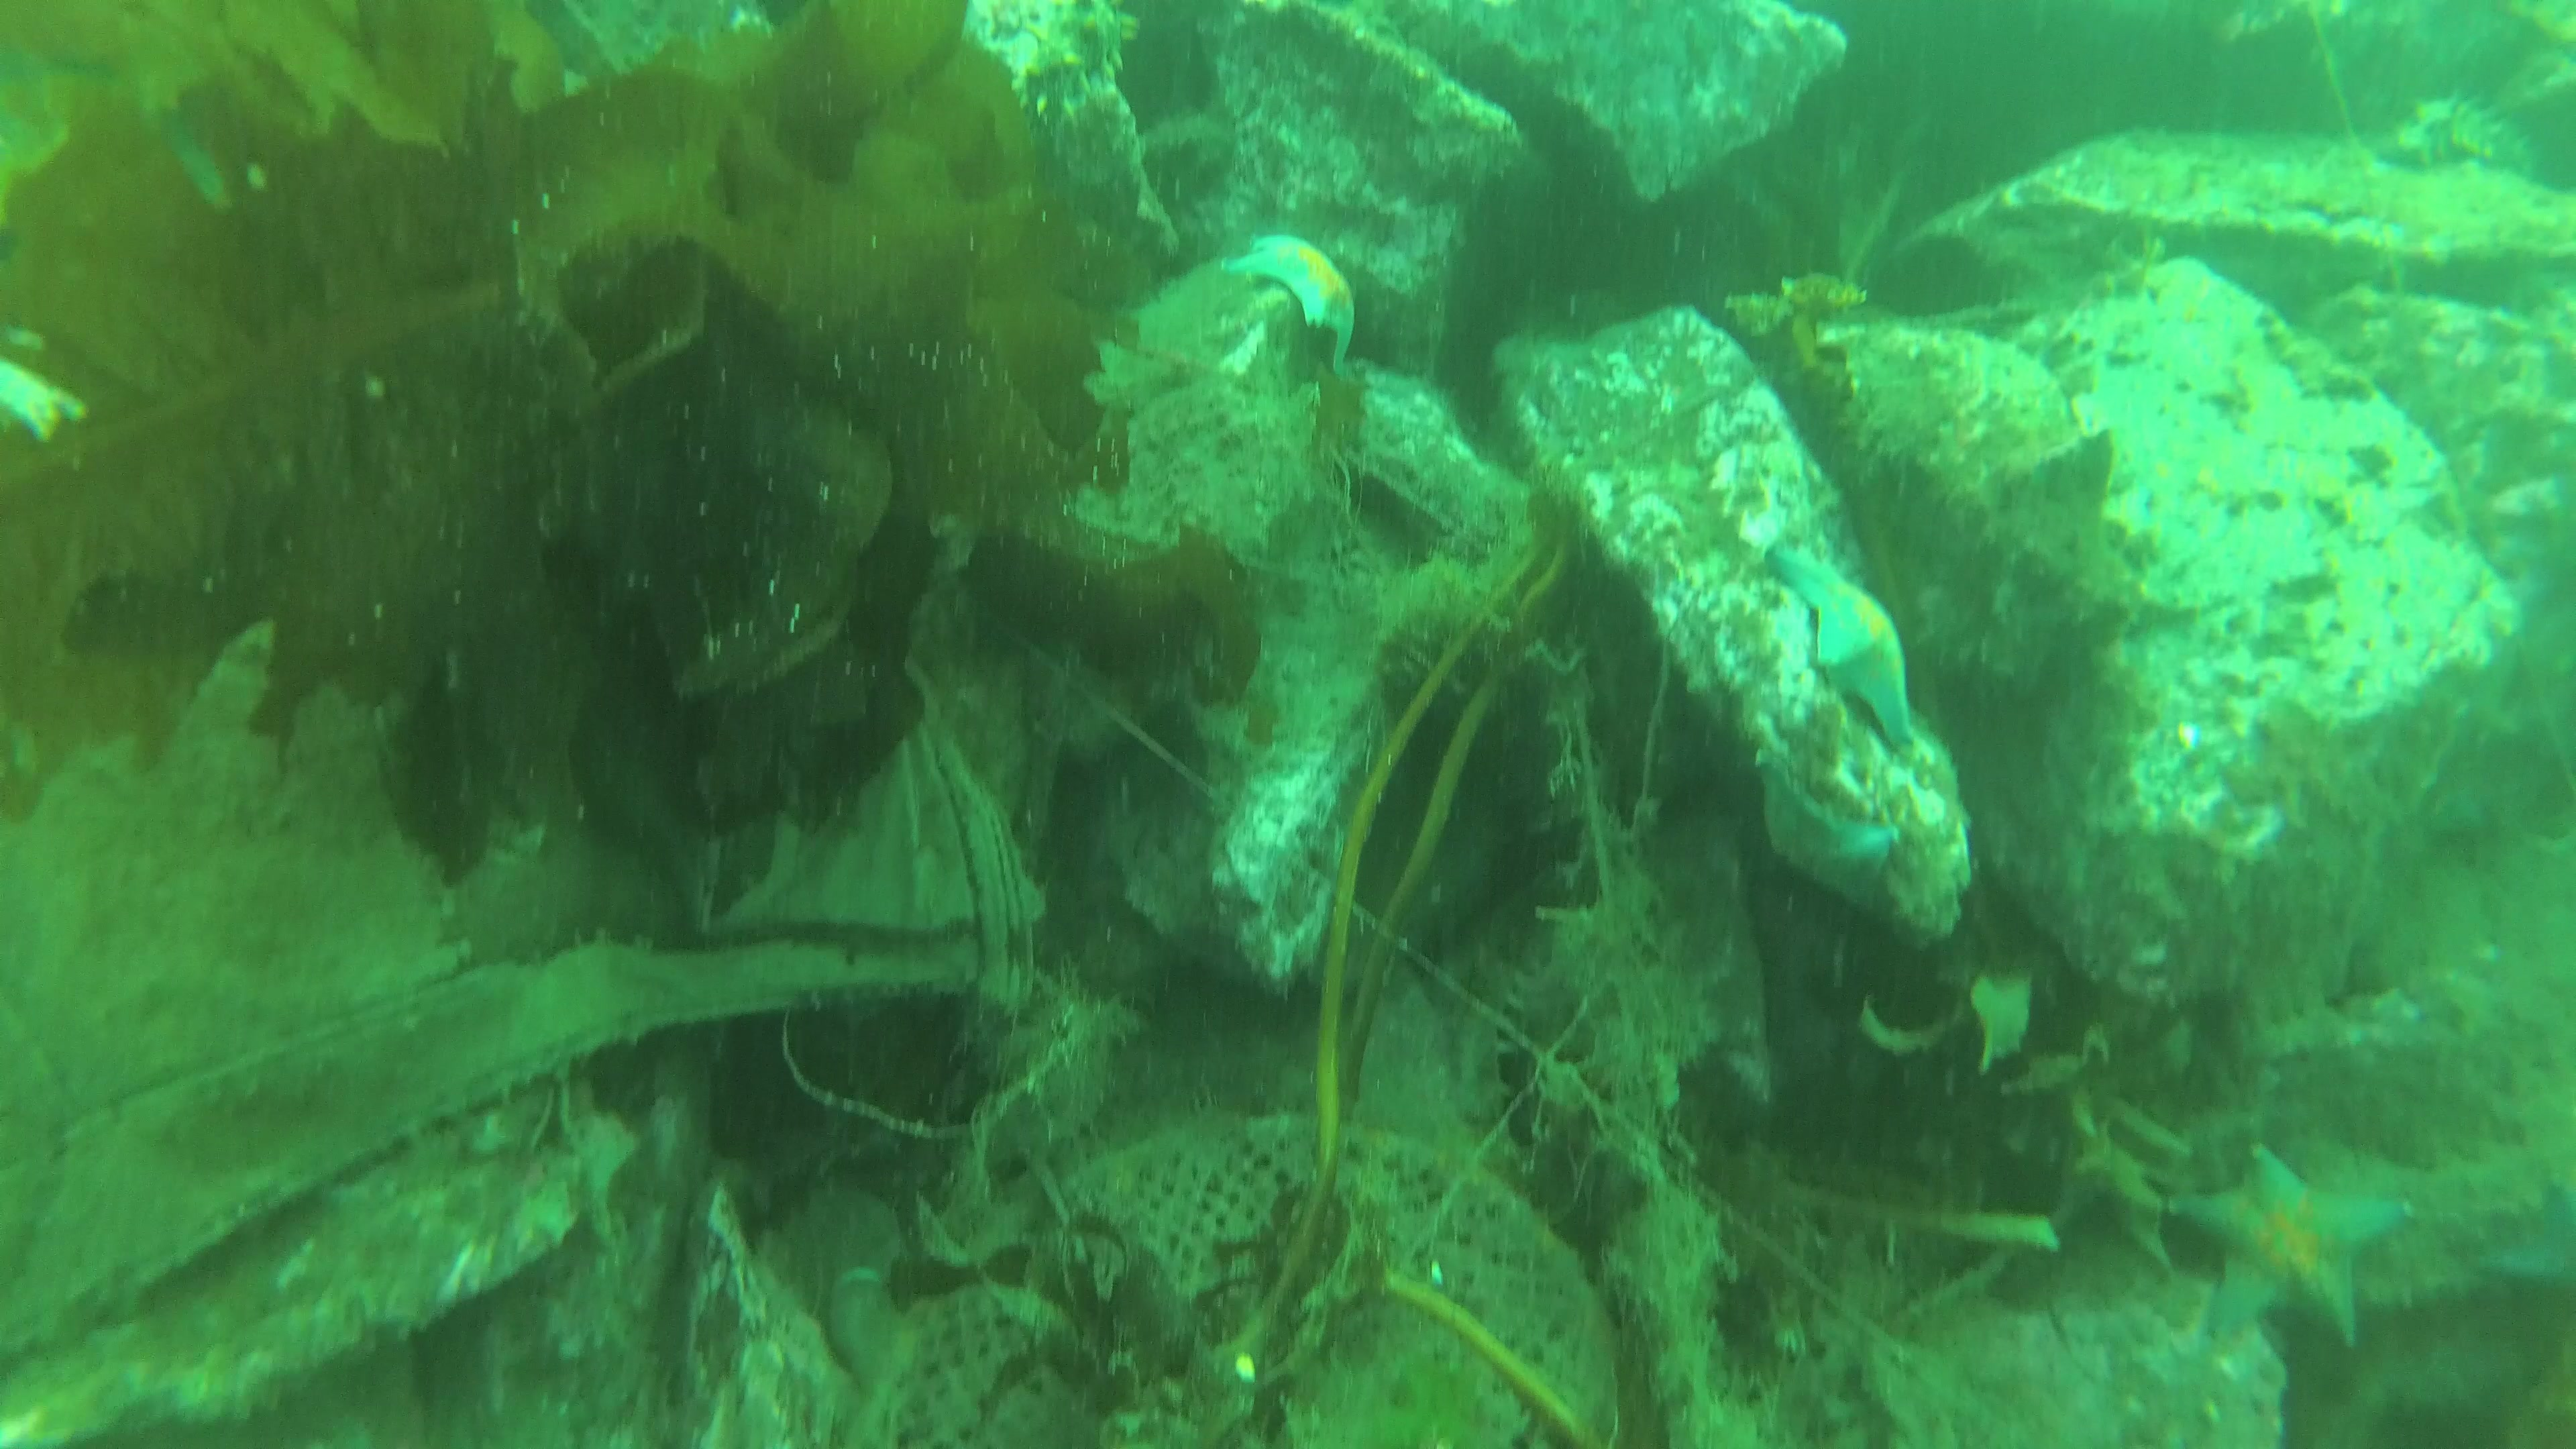holothurian: (2392, 92, 2539, 209)
starfish: (2166, 1139, 2417, 1350), (1762, 536, 1920, 763), (1748, 713, 1902, 915), (1219, 235, 1357, 384)
